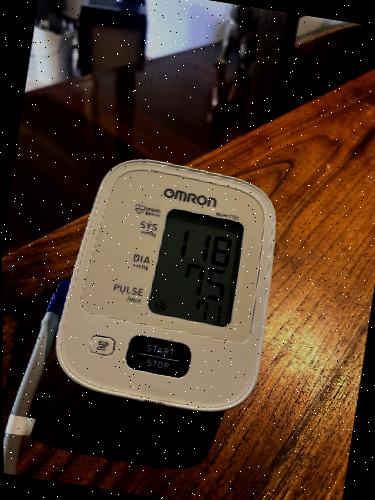bpm: (145, 206, 250, 331)
